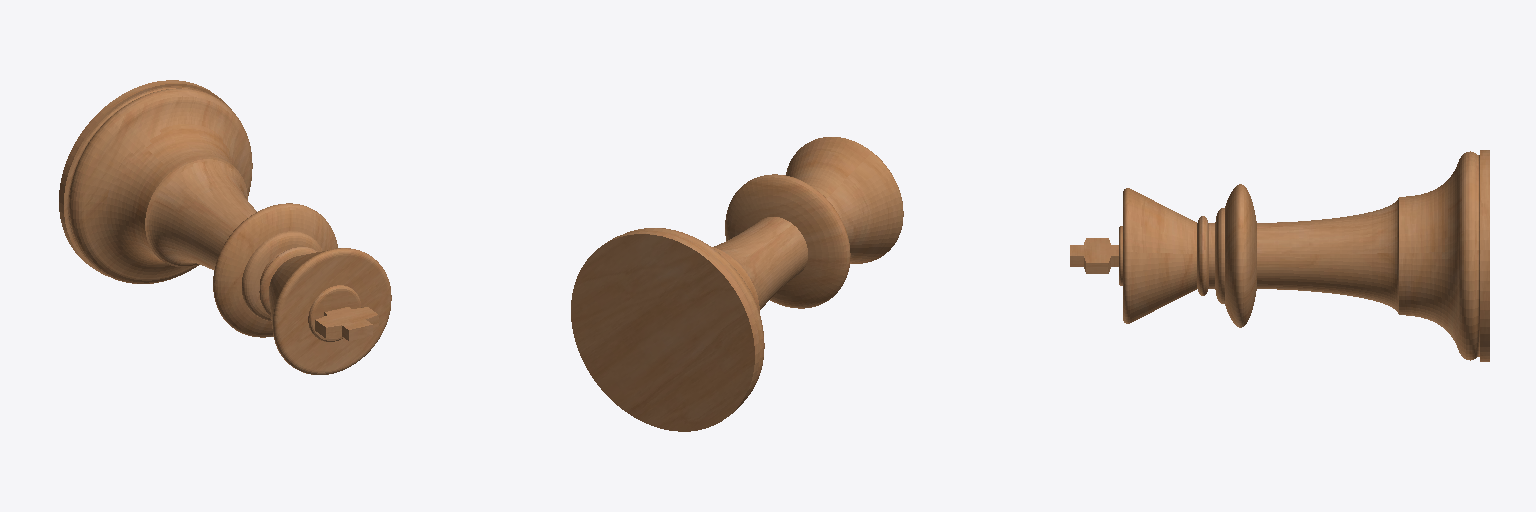
3 views of the same model, side by side, from view 1: azimuth 30°, elevation 25°; view 2: azimuth 150°, elevation 25°; view 3: azimuth 270°, elevation 25° (orthographic).
Parts seen in each view (by area): view 1: king; view 2: king; view 3: king.
Part boxes in pixels (x1,y1,x2,y2): king: (59,80,391,374); king: (571,137,903,431); king: (1070,150,1489,361).
Bounding box in the file's own units: 32.16 × 32.16 × 63.58.
1 materials, 1 textured.